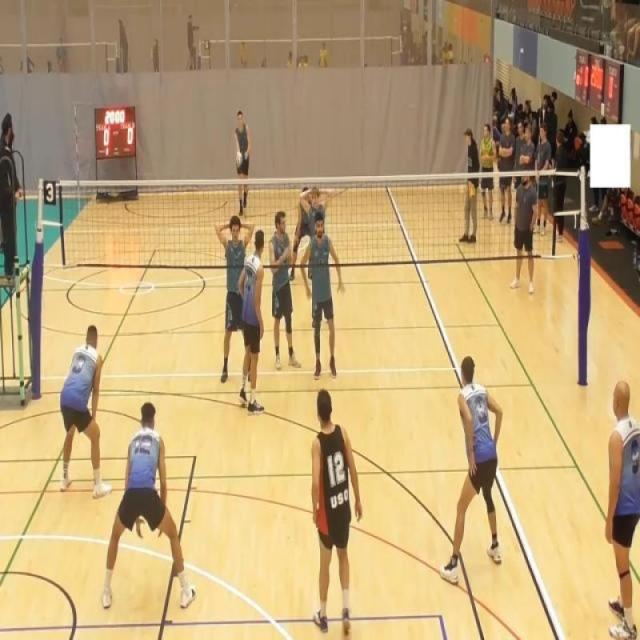volleyball: (236, 152, 243, 168)
